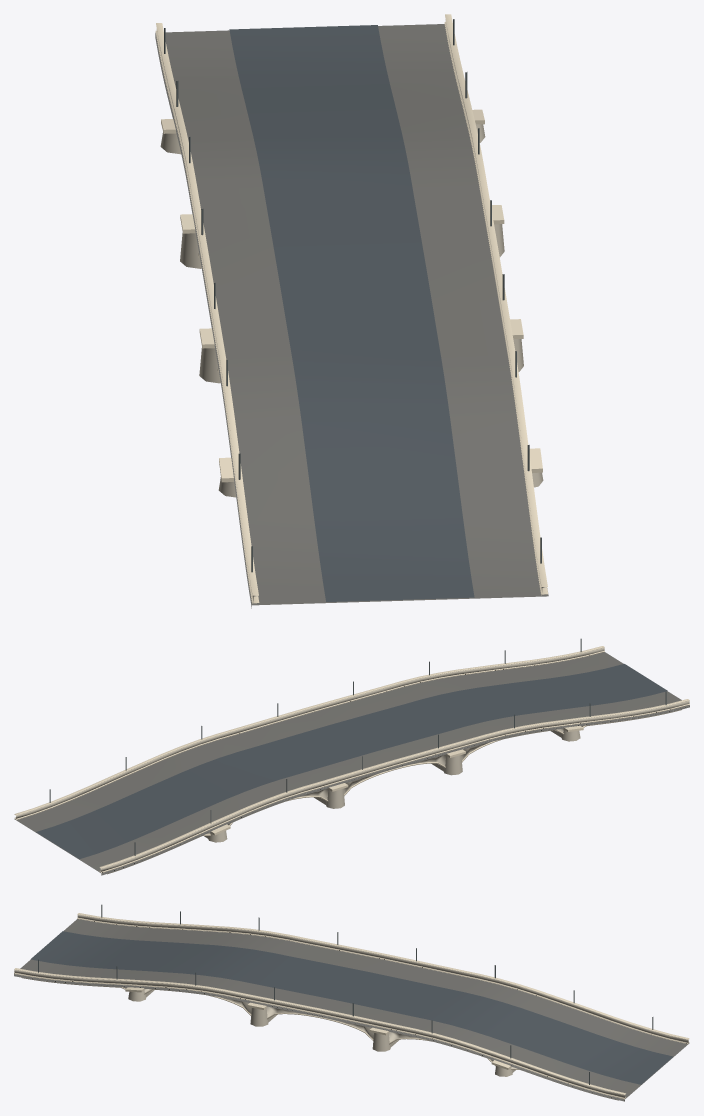
File: paris-pont-concorde-far.glb
3 renders of one model, top to bottom at view 1: azimuth 30°, elevation 25°; view 2: azimuth 150°, elevation 25°; view 3: azimuth 270°, elevation 25°, orthographic. The views are drawn at different scales.
Visible parts, largest first — view 1: paris-pont-concorde-asphalt, paris-pont-concorde-deck, paris-pont-concorde-trim, paris-pont-concorde-stone, paris-pont-concorde-rail; view 2: paris-pont-concorde-asphalt, paris-pont-concorde-deck, paris-pont-concorde-trim, paris-pont-concorde-stone, paris-pont-concorde-rail; view 3: paris-pont-concorde-asphalt, paris-pont-concorde-deck, paris-pont-concorde-trim, paris-pont-concorde-stone, paris-pont-concorde-rail.
Boxes of the visible parts, x1,y1,x2,y2 form: paris-pont-concorde-asphalt: (229, 25, 474, 601); paris-pont-concorde-deck: (155, 24, 548, 608); paris-pont-concorde-trim: (155, 14, 548, 603); paris-pont-concorde-stone: (156, 20, 546, 602); paris-pont-concorde-rail: (164, 19, 541, 572); paris-pont-concorde-asphalt: (36, 664, 667, 859); paris-pont-concorde-deck: (14, 652, 689, 875); paris-pont-concorde-trim: (14, 646, 689, 874); paris-pont-concorde-stone: (15, 647, 689, 871); paris-pont-concorde-rail: (49, 638, 666, 855); paris-pont-concorde-asphalt: (30, 931, 673, 1084); paris-pont-concorde-deck: (14, 919, 689, 1101); paris-pont-concorde-trim: (14, 913, 689, 1100); paris-pont-concorde-stone: (14, 914, 688, 1097); paris-pont-concorde-rail: (38, 904, 653, 1084).
Size of the model in its own units: 98.43 by 10.88 by 154.
